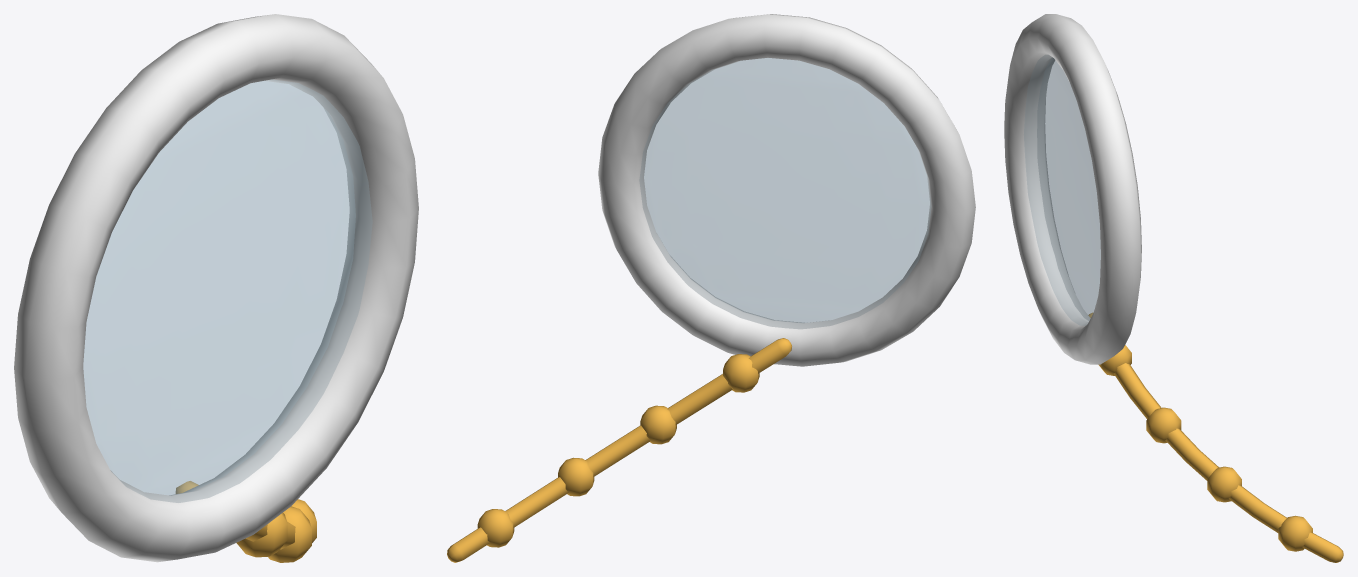
File: monocle.glb
The picture shows the model from 3 angles, left to right: view 1: azimuth 30°, elevation 25°; view 2: azimuth 150°, elevation 25°; view 3: azimuth 270°, elevation 25°; orthographic projection. The views are drawn at different scales.
Visible parts, largest first — view 1: monocle; view 2: monocle; view 3: monocle.
Boxes of the visible parts, x1,y1,x2,y2 form: monocle: (14, 14, 418, 562); monocle: (447, 14, 975, 562); monocle: (1004, 14, 1343, 562).
Size of the model in its own units: 0.3509 by 0.46 by 0.3153.
